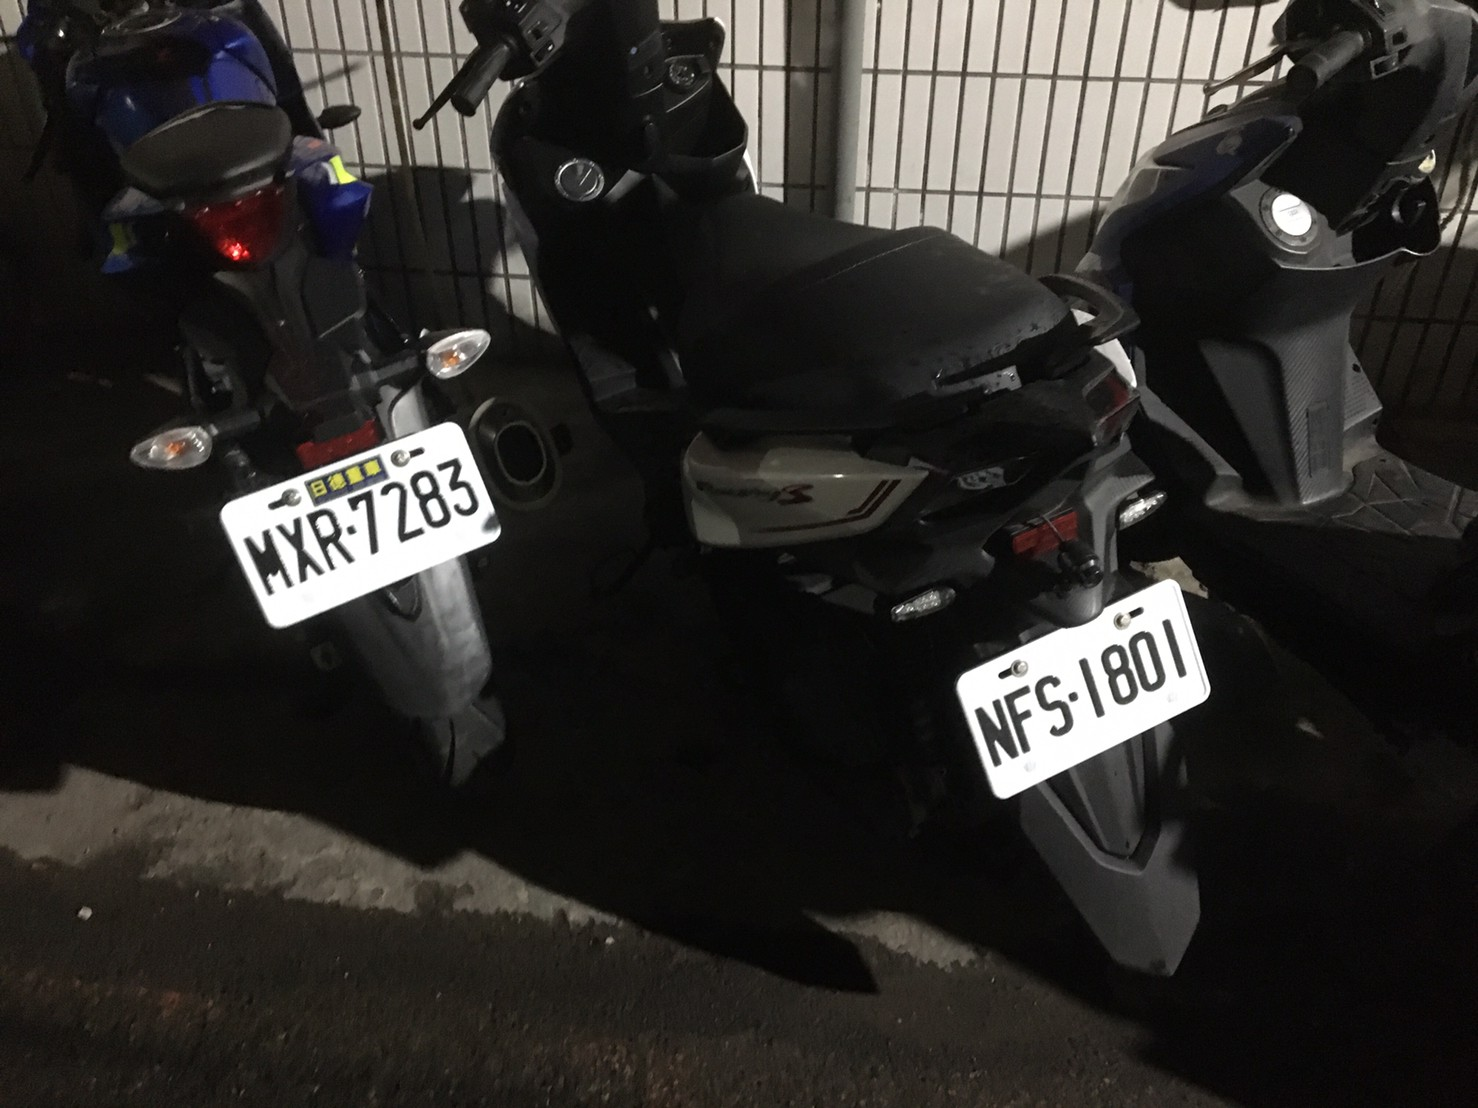LP: (236, 454, 485, 594), (980, 615, 1195, 774)
